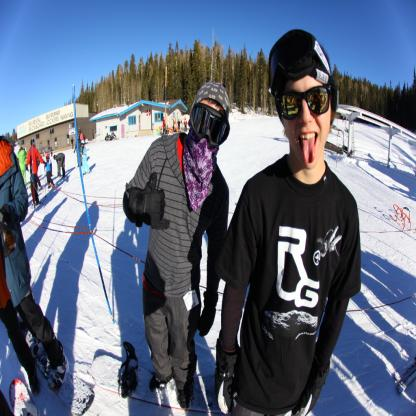Helmet: (264, 29, 344, 119)
